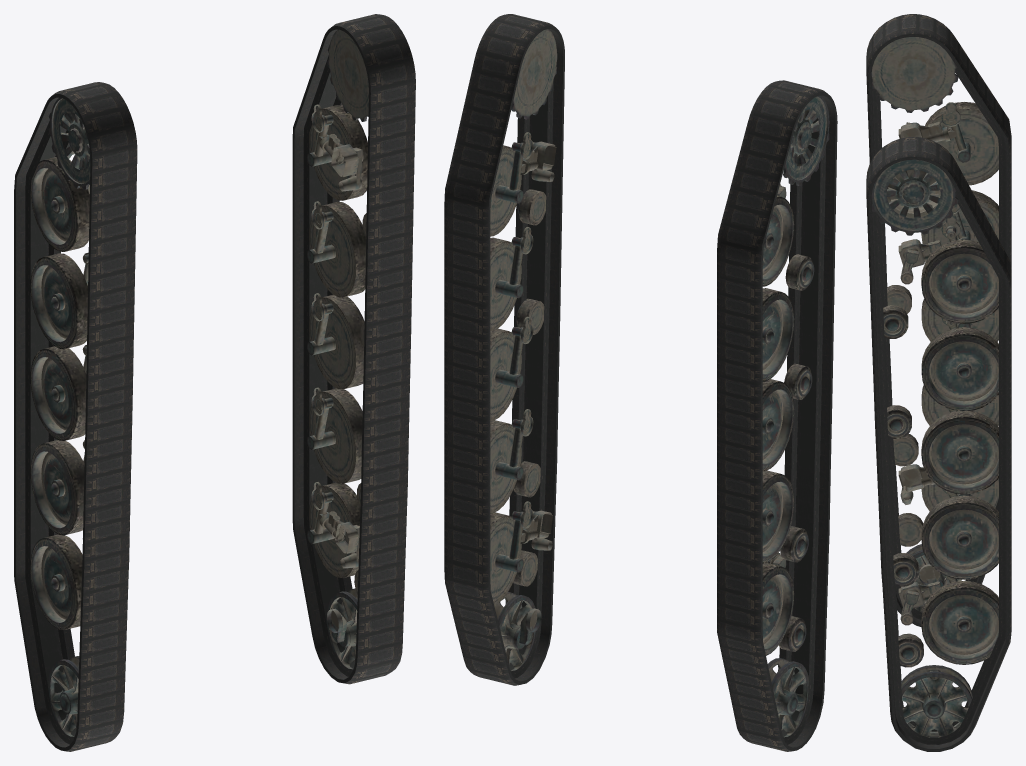
Rendered from Chassis.glb.
3 views of the same model, side by side, from view 1: azimuth 30°, elevation 25°; view 2: azimuth 150°, elevation 25°; view 3: azimuth 270°, elevation 25° (orthographic). The views are drawn at different scales.
Parts seen in each view (by area): view 1: set_0_group_0, set_1_group_0, set_3_group_0, set_2_group_0; view 2: set_0_group_0, set_1_group_0, set_3_group_0, set_2_group_0; view 3: set_3_group_0, set_1_group_0, set_2_group_0, set_0_group_0.
Part boxes in pixels (bbox=[...]): set_0_group_0: bbox=[14, 82, 137, 751]; set_1_group_0: bbox=[292, 14, 415, 684]; set_3_group_0: bbox=[307, 29, 368, 669]; set_2_group_0: bbox=[30, 97, 90, 736]; set_0_group_0: bbox=[717, 80, 837, 751]; set_1_group_0: bbox=[444, 14, 564, 685]; set_3_group_0: bbox=[490, 29, 557, 670]; set_2_group_0: bbox=[762, 95, 829, 737]; set_3_group_0: bbox=[871, 159, 998, 737]; set_1_group_0: bbox=[866, 137, 1011, 751]; set_2_group_0: bbox=[871, 37, 998, 612]; set_0_group_0: bbox=[866, 14, 1011, 627].
Size of the model in its own units: 2.51 by 4.92 by 1.08.
Materials: 4 (4 with a texture image).
